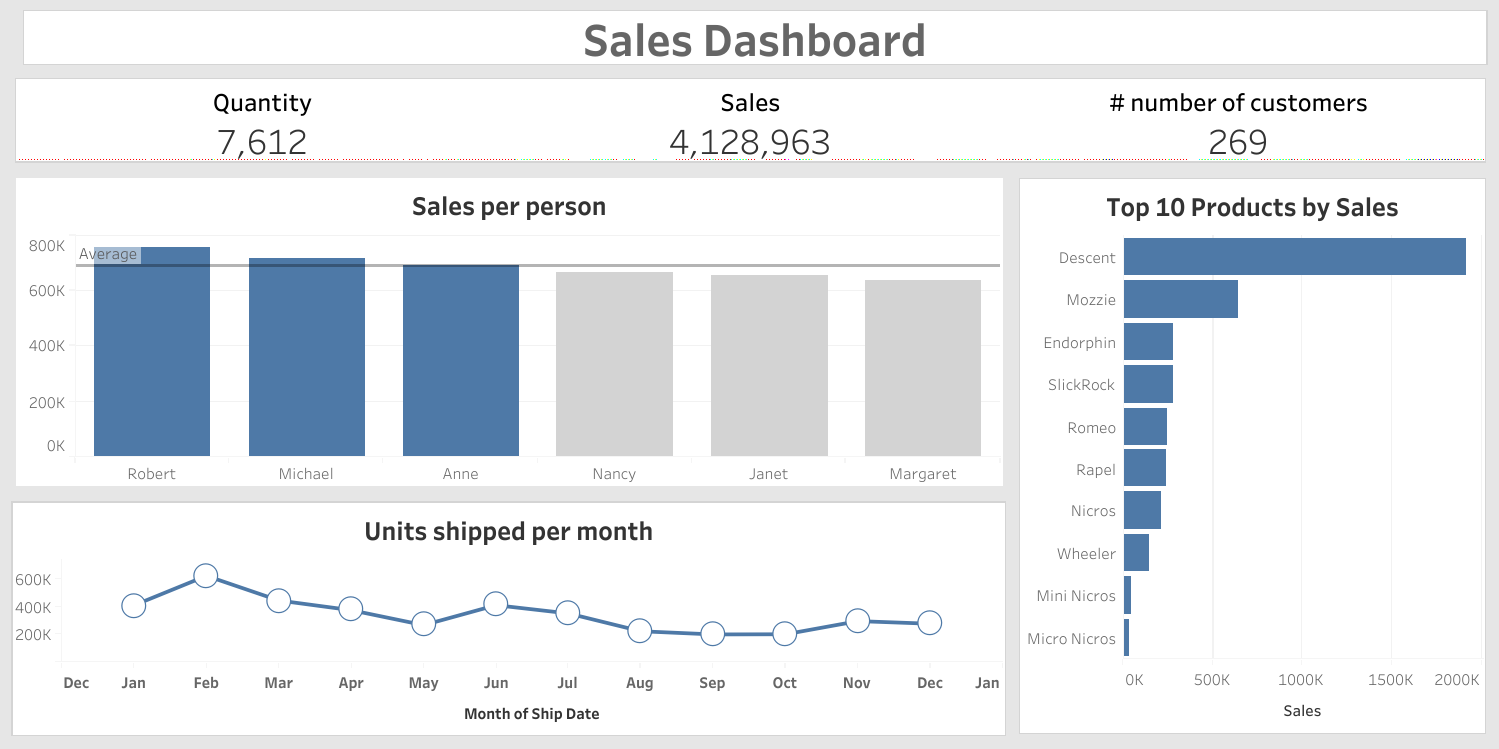

The dashboard page shown, as its layout file describes it:
{"tool":"tableau","page":{"name":"Dashboard 1","canvas":[1200,600],"ordinal":0},"visuals":[{"type":"text","box":[16,6,1176,48]},{"type":"worksheet","title":"KPI","mark":"Automatic","box":[10,60,1181,72]},{"type":"worksheet","title":"Sales per person","mark":"Automatic","rows":["Calculation_791789144879906816"],"cols":["First Name"],"box":[10,139,795,253]},{"type":"worksheet","title":"Top 10","mark":"Automatic","rows":["Product Name"],"cols":["Calculation_791789144879906816"],"box":[813,140,378,449]},{"type":"worksheet","title":"Units shipped per month","mark":"Automatic","rows":["Calculation_791789144879906816","Calculation_791789144879906816"],"cols":["Ship Date"],"box":[7,399,800,192]}]}

Visuals, with their boxes in screenshot pixels (x1, y1, x2, y2), scaled from the page's 1200x600 canvas onto the 1499x749 screenshot:
text: box=[20, 7, 1489, 67]
"KPI" worksheet: box=[12, 75, 1488, 165]
"Sales per person" worksheet: box=[12, 174, 1006, 489]
"Top 10" worksheet: box=[1016, 175, 1488, 735]
"Units shipped per month" worksheet: box=[9, 498, 1008, 738]
